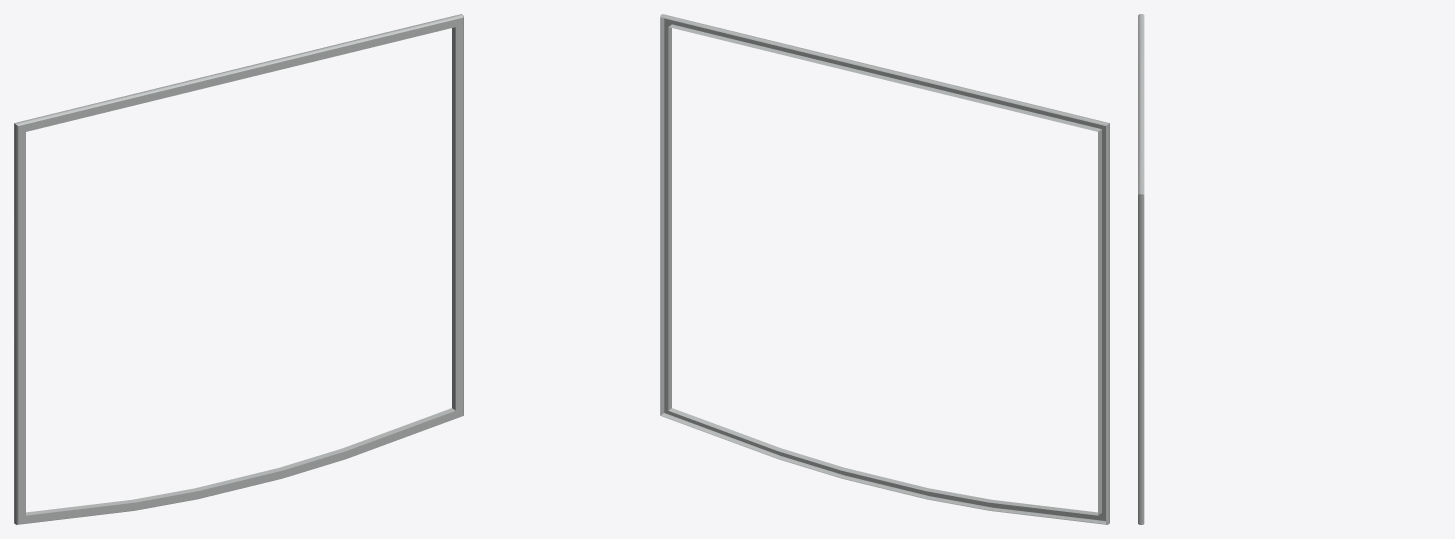
The model's file is FridgeDrawer2_20_FridgeDrawer2D2_2_GeomSubset_1.obj.
The picture shows the model from 3 angles, left to right: view 1: azimuth 30°, elevation 25°; view 2: azimuth 150°, elevation 25°; view 3: azimuth 270°, elevation 25°; orthographic projection. The views are drawn at different scales.
Parts seen in each view (by area): view 1: FridgeDrawer2_20_FridgeDrawer2D2_2_GeomSubset_1; view 2: FridgeDrawer2_20_FridgeDrawer2D2_2_GeomSubset_1; view 3: FridgeDrawer2_20_FridgeDrawer2D2_2_GeomSubset_1.
Part boxes in pixels (x1,y1,x2,y2): FridgeDrawer2_20_FridgeDrawer2D2_2_GeomSubset_1: (14,14,463,524); FridgeDrawer2_20_FridgeDrawer2D2_2_GeomSubset_1: (660,14,1109,524); FridgeDrawer2_20_FridgeDrawer2D2_2_GeomSubset_1: (1138,14,1144,524).
Size of the model in its own units: 0.4944 by 0.4422 by 0.3507.
